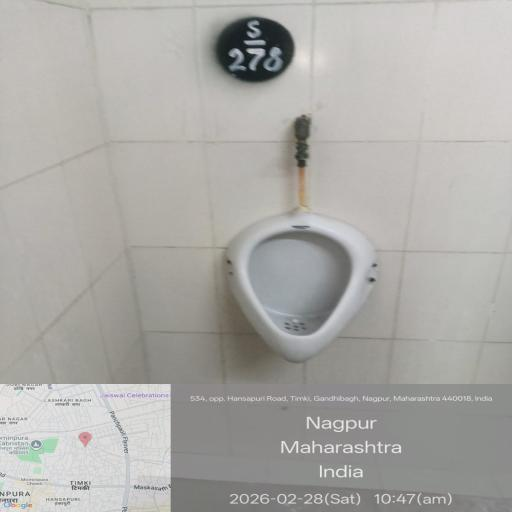clean_floor: (17, 9, 224, 497), (270, 7, 503, 166), (246, 391, 512, 512)
clean_urinal: (214, 186, 376, 354)
